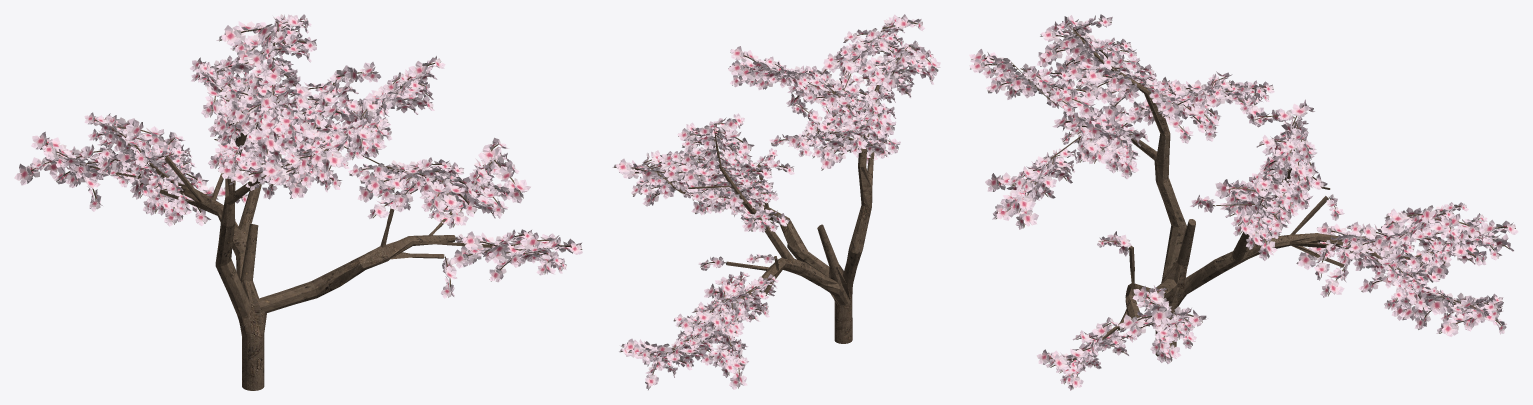
The model's file is peachBlossom.obj.
3 renders of one model, left to right at view 1: azimuth 30°, elevation 25°; view 2: azimuth 150°, elevation 25°; view 3: azimuth 270°, elevation 25°, orthographic. The views are drawn at different scales.
Parts seen in each view (by area): view 1: twigs_Plane, tree_tree.067; view 2: twigs_Plane, tree_tree.067; view 3: twigs_Plane, tree_tree.067.
Boxes of the visible parts, x1,y1,x2,y2 form: twigs_Plane: (14,14,582,298); tree_tree.067: (85,22,544,390); twigs_Plane: (612,14,940,390); tree_tree.067: (645,26,907,353); twigs_Plane: (969,14,1518,390); tree_tree.067: (1011,26,1470,357).
Size of the model in its own units: 504 by 500 by 746.
2 materials, 2 textured.
